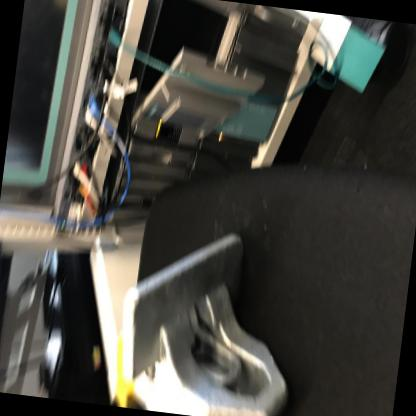Twistlock: (94, 210, 318, 415)
